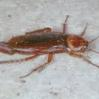cockroach: (6, 26, 89, 58)
